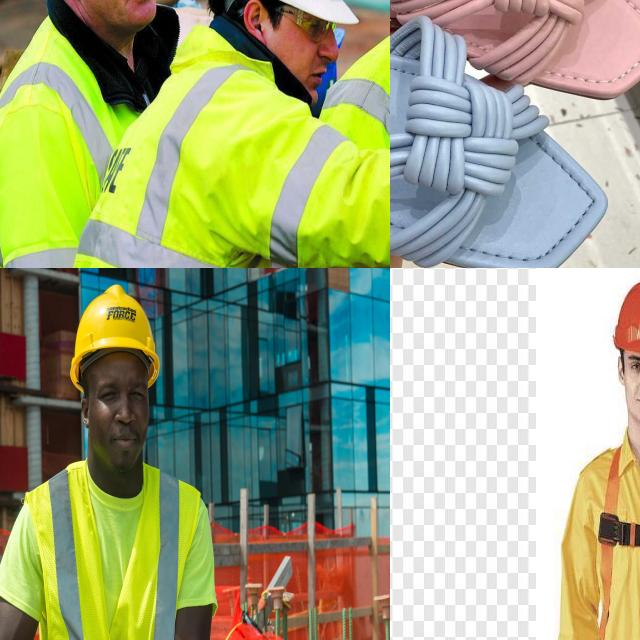Harness: (598, 448, 640, 640)
No_Ear-Protection: (240, 0, 268, 43), (75, 392, 94, 431)
No_Glasses: (92, 371, 151, 413)
Sandals: (390, 0, 623, 268), (390, 0, 640, 144)
face_nomask: (265, 0, 351, 115), (84, 349, 154, 471), (99, 0, 158, 32)
glasses: (288, 2, 338, 40)
head_helmet: (63, 275, 162, 381)
person: (0, 277, 217, 640), (94, 0, 362, 268), (0, 0, 175, 268)
vest: (84, 21, 318, 268), (26, 436, 208, 640), (0, 6, 116, 268), (322, 5, 390, 268)
